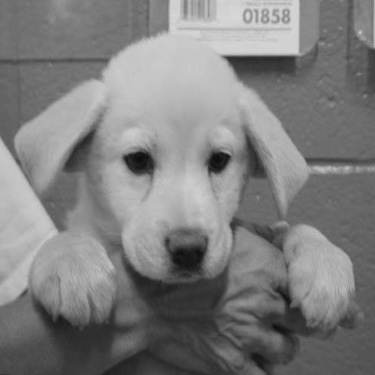dog: (1, 24, 363, 369)
